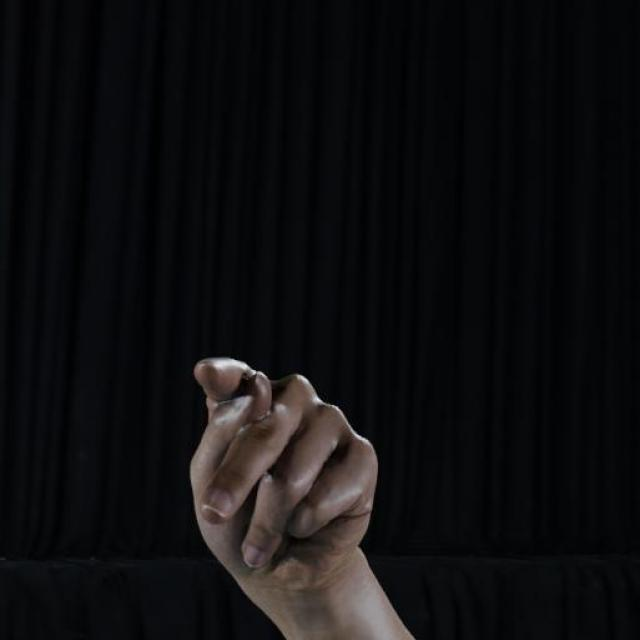P: (185, 352, 384, 602)
